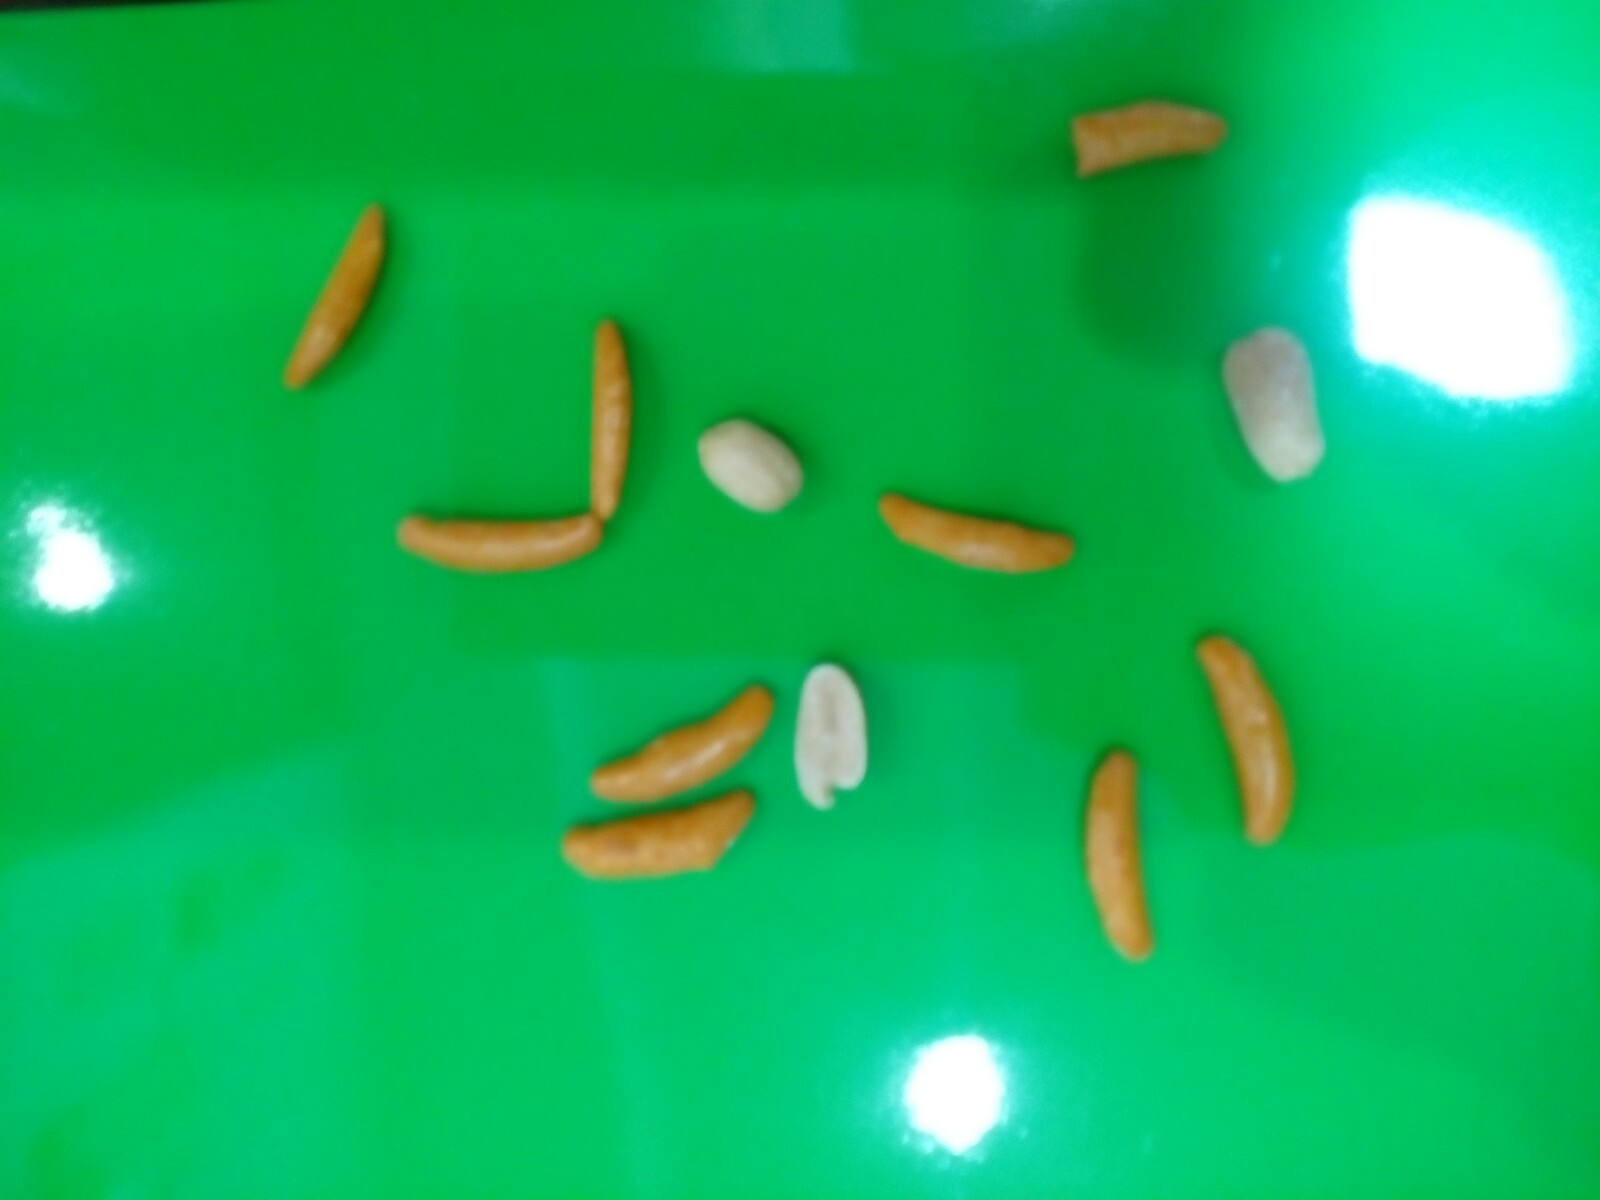peanut: (1211, 315, 1330, 492), (687, 398, 806, 523), (791, 657, 878, 821)
